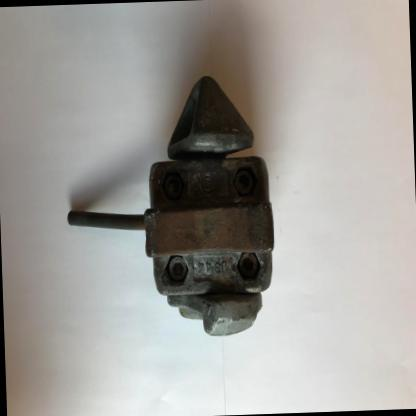Twistlock: (54, 69, 282, 351)
